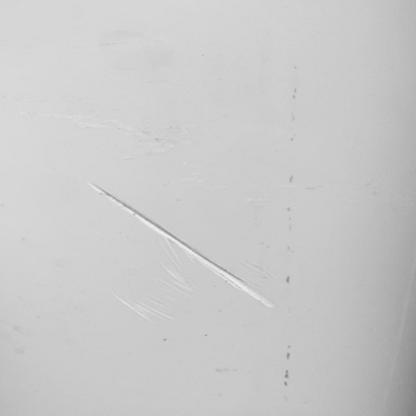sunshang: (92, 185, 275, 309)
